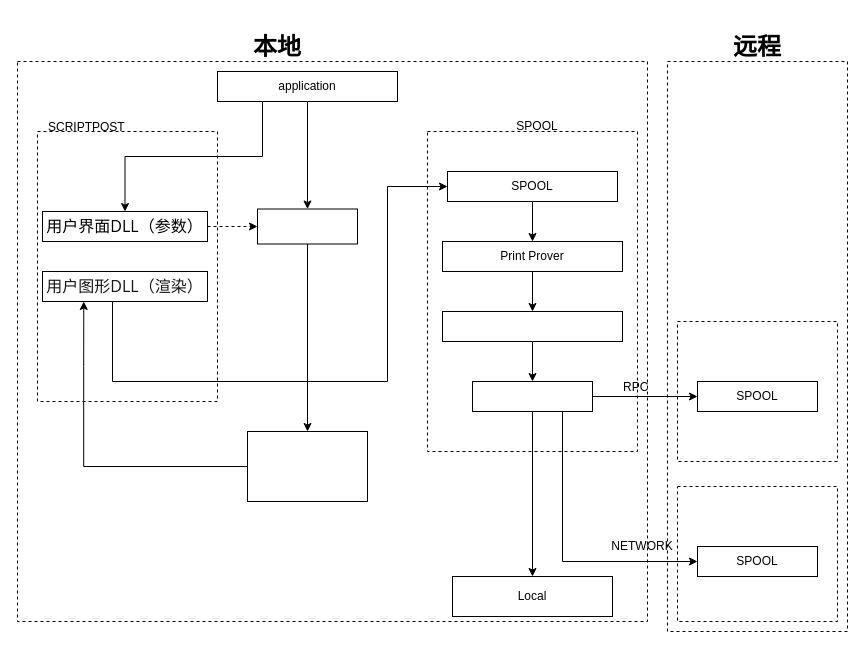
This 865x649 diagram has some shape labels left out. Here are the shapes that lost their labels. From the top down, the centre of each, then its label:
At (307,226): "GDI".
At (532,326): "Print Monitor".
At (532,396): "Print Port".
At (307,466): "内核渲染引擎".
